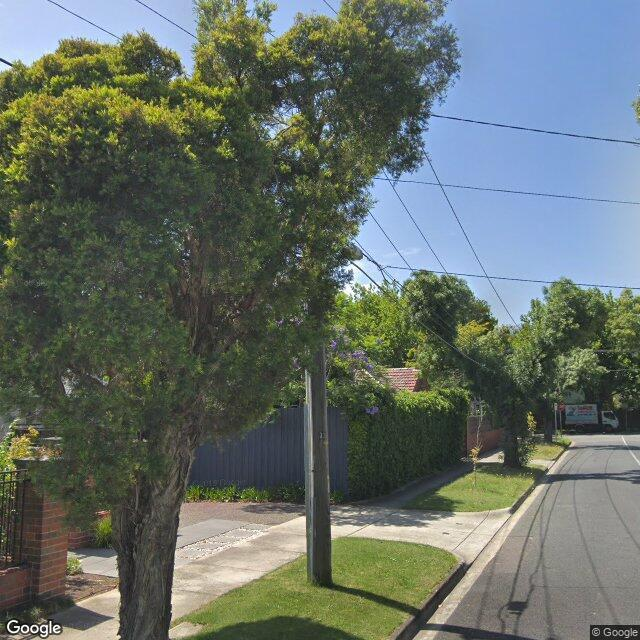crossarm: (278, 74, 348, 98)
timber-pole: (303, 73, 332, 588)
